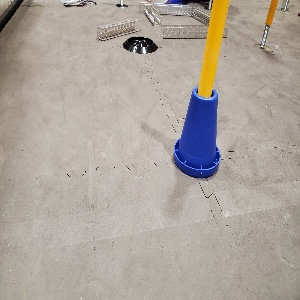Blue_1: (172, 85, 220, 177)
